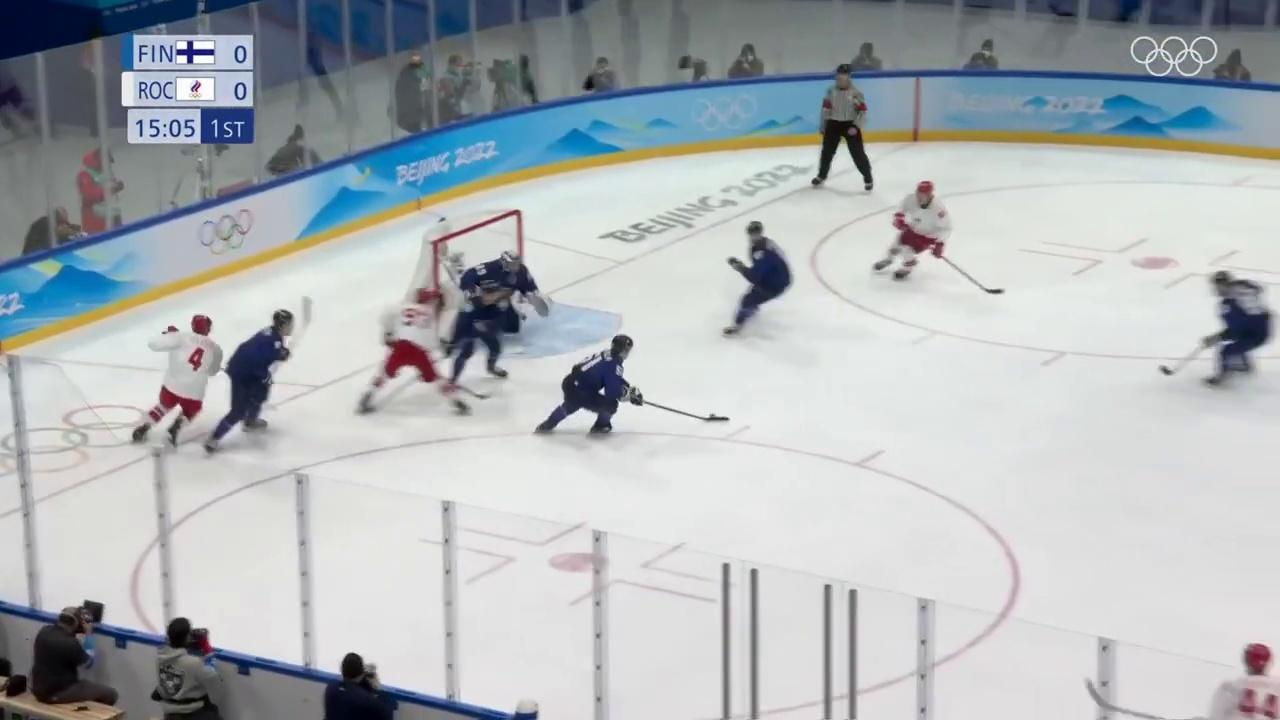ball: (709, 414, 716, 417)
